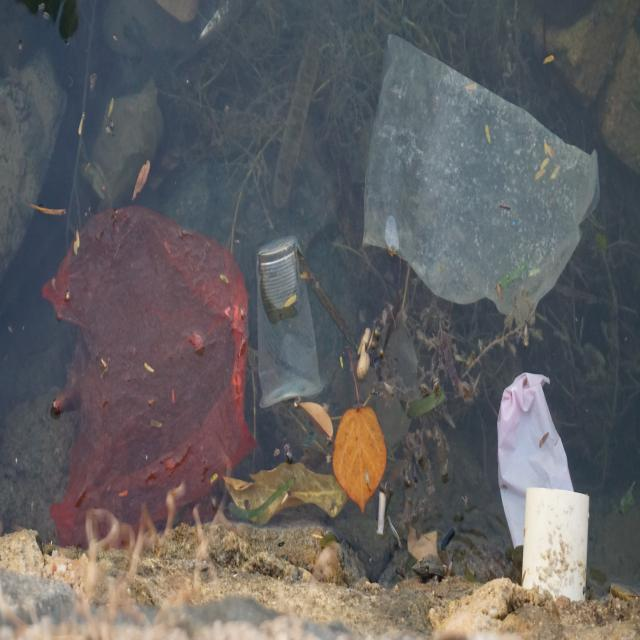Bungkus Minuman: (252, 232, 325, 413)
Kantong Plastik: (361, 21, 600, 330), (42, 199, 257, 533)
